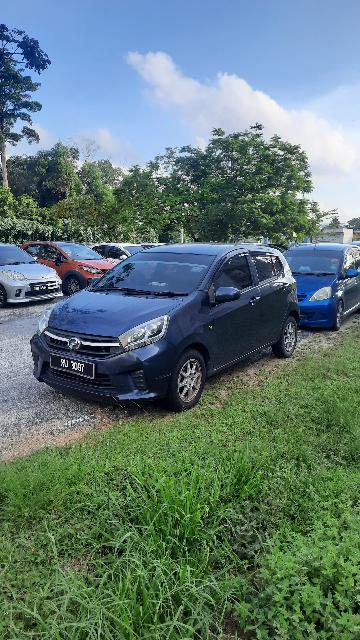License_Plate: (45, 351, 99, 385)
car: (29, 243, 310, 412)
